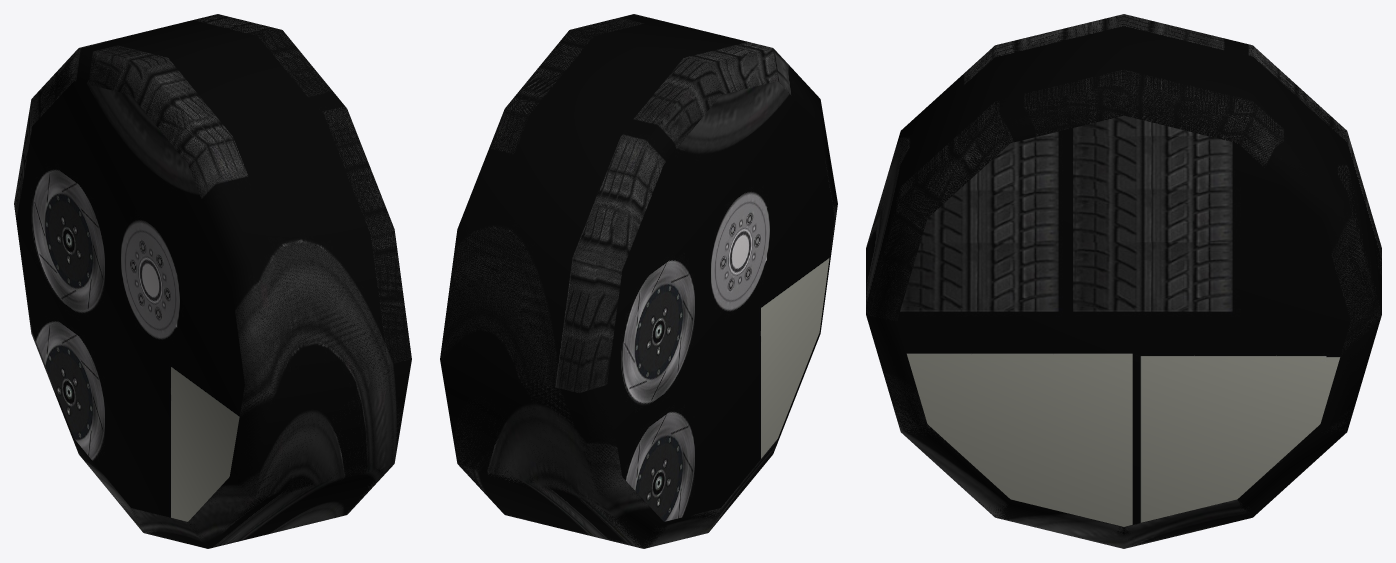
Rendered from wheel.fbx.
3 views of the same model, side by side, from view 1: azimuth 30°, elevation 25°; view 2: azimuth 150°, elevation 25°; view 3: azimuth 270°, elevation 25° (orthographic).
Visible parts, largest first — view 1: right, left; view 2: right, left; view 3: right, left.
Boxes of the visible parts, left/top/right/bottom form: right: left=14, top=14, right=411, bottom=548; left: left=14, top=14, right=411, bottom=548; right: left=440, top=14, right=837, bottom=548; left: left=440, top=14, right=837, bottom=548; right: left=866, top=14, right=1381, bottom=548; left: left=866, top=14, right=1381, bottom=548.
Size of the model in its own units: 25.63 by 70.11 by 70.11.
